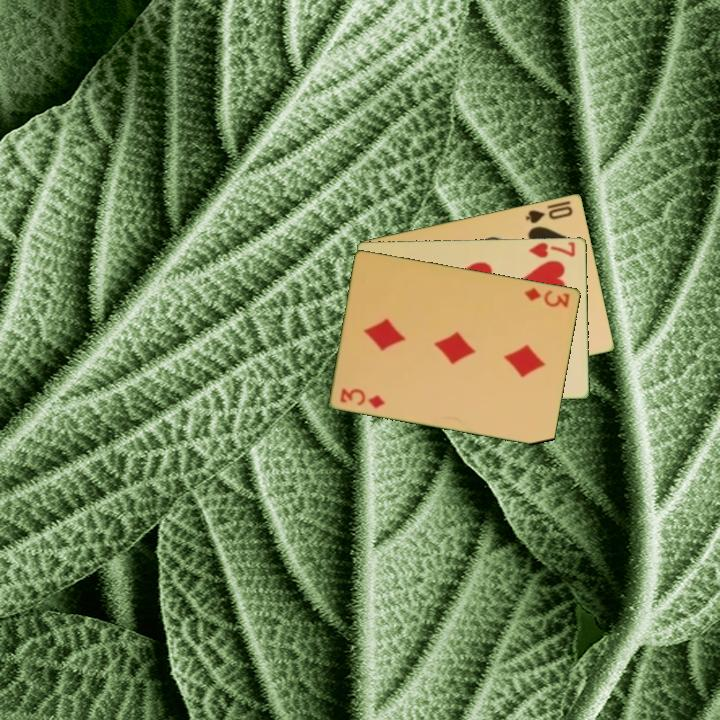10s: (522, 202, 576, 226)
3d: (521, 284, 573, 310), (337, 385, 388, 411)
7h: (525, 238, 578, 260)
